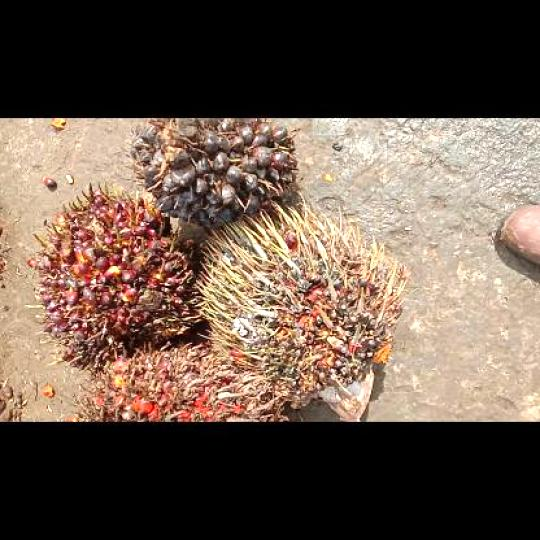masak: (26, 183, 195, 362)
terlalu masak: (73, 348, 283, 420)
